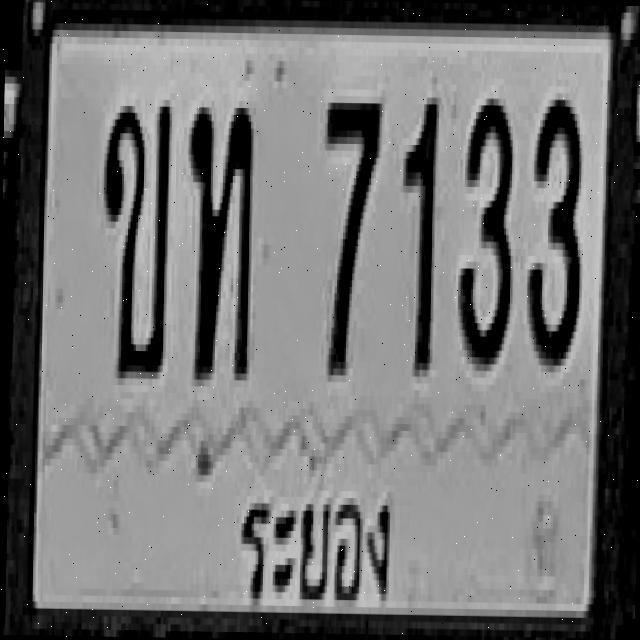1: (398, 93, 438, 373)
11KhorKhai: (100, 99, 170, 378)
3: (456, 91, 513, 364), (526, 92, 582, 365)
32ThorThaHan: (184, 100, 253, 380)
7: (320, 96, 380, 376)
Rayong: (233, 453, 401, 640)
